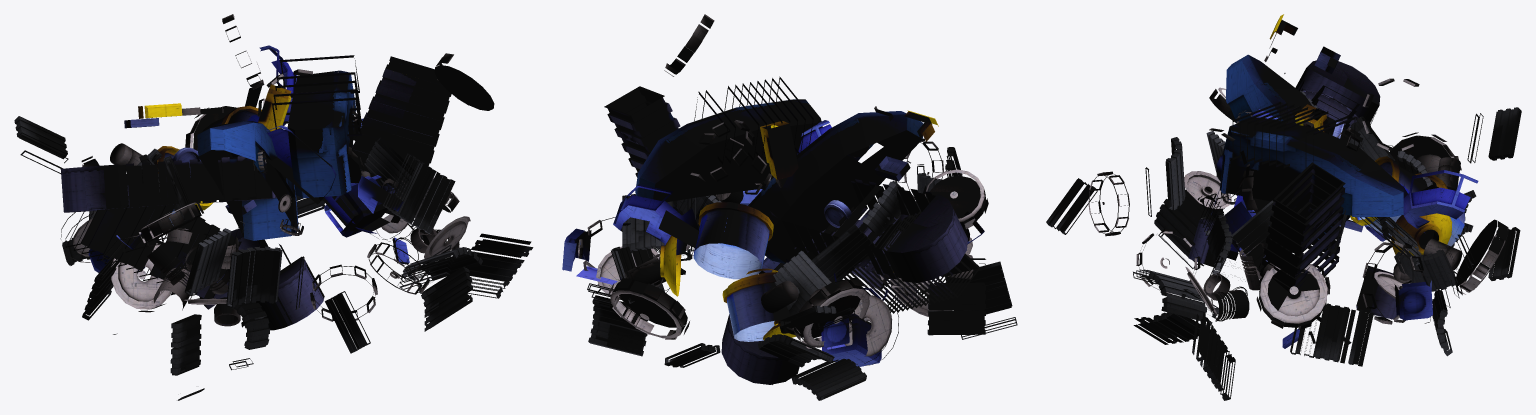
Rendered from PlayerB_die18.obj.
3 renders of one model, left to right at view 1: azimuth 30°, elevation 25°; view 2: azimuth 150°, elevation 25°; view 3: azimuth 270°, elevation 25°, orthographic. The views are drawn at different scales.
Parts seen in each view (by area): view 1: Object005; view 2: Object005; view 3: Object005.
Part boxes in pixels (x1,y1,x2,y2): Object005: [14, 14, 533, 400]; Object005: [562, 14, 1017, 400]; Object005: [1046, 14, 1521, 400].
Size of the model in its own units: 262 by 184 by 284.
2 materials, 2 textured.
